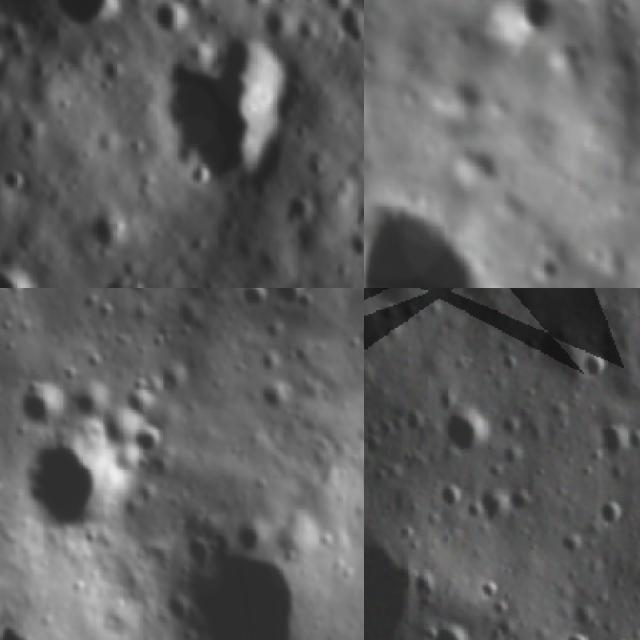crater: (113, 3, 328, 210), (148, 511, 334, 640), (11, 408, 134, 557), (364, 200, 485, 288), (68, 191, 138, 262), (9, 376, 72, 439), (39, 0, 128, 41), (59, 374, 120, 433), (0, 229, 55, 288), (496, 0, 555, 51), (422, 77, 492, 117), (436, 401, 489, 453), (452, 142, 511, 186), (79, 257, 158, 288), (122, 416, 174, 463), (116, 380, 166, 426), (578, 342, 613, 391), (264, 288, 317, 320), (598, 493, 631, 531), (598, 422, 630, 460), (235, 288, 273, 315), (433, 481, 467, 509), (435, 617, 472, 640), (479, 577, 501, 600), (564, 631, 595, 640)
